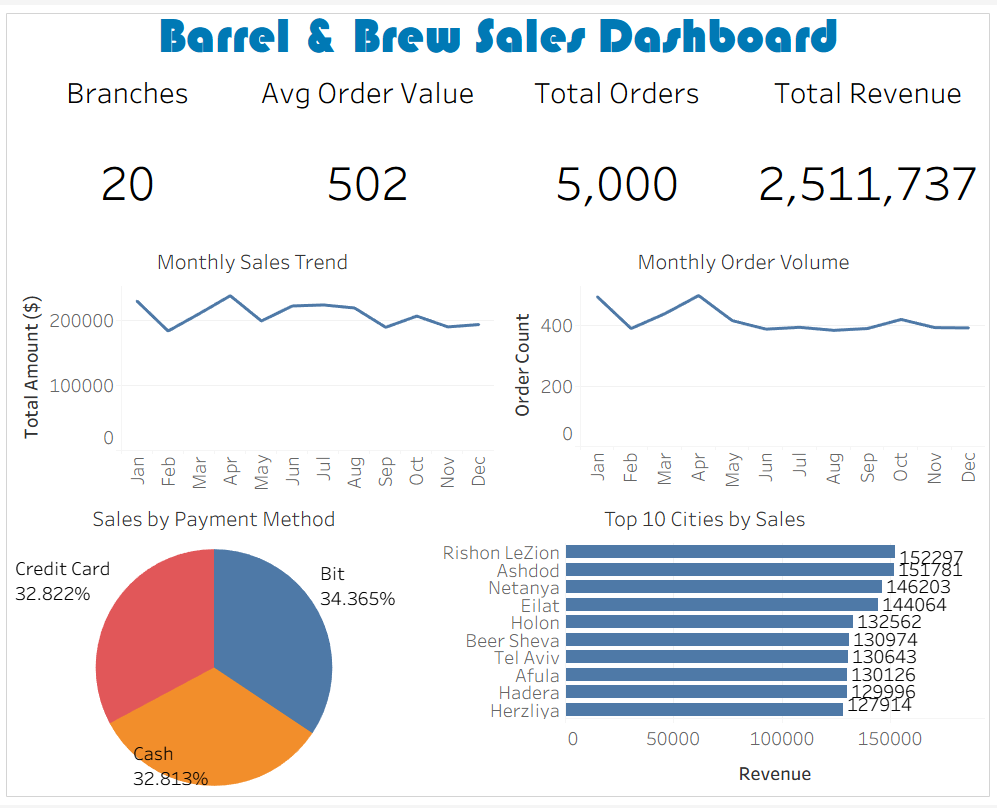

The page's visual inventory and layout, read from the dashboard file:
{"tool":"tableau","page":{"name":"Sales","canvas":[1000,800],"ordinal":1},"visuals":[{"type":"text","box":[9,9,982,45]},{"type":"text","box":[9,54,241.5,64.6]},{"type":"text","box":[250.5,54,238.5,64.6]},{"type":"text","box":[489,54,260.4,64.6]},{"type":"text","box":[749.5,54,241.5,64.6]},{"type":"text","box":[9,118.6,241.5,115.4]},{"type":"text","box":[250.5,118.6,238.5,115.4]},{"type":"text","box":[489,118.6,260.4,115.4]},{"type":"text","box":[749.5,118.6,241.5,115.4]},{"type":"worksheet","title":"Monthly Sales Trend","mark":"Automatic","rows":["TotalAmount"],"cols":["SaleDate"],"box":[9,234,491,256.8]},{"type":"worksheet","title":"Monthly Order Volume","mark":"Automatic","rows":["SaleID"],"cols":["SaleDate"],"box":[500,234,490.9,256.8]},{"type":"worksheet","title":"Sales by Payment Method","mark":"Pie","box":[9,490.8,414,300.2]},{"type":"worksheet","title":"Top 10 Cities by Sales","mark":"Automatic","rows":["CityName"],"cols":["TotalAmount"],"box":[423,490.8,568,300.2]}]}

Visuals, with their boxes in screenshot pixels (x1, y1, x2, y2), scaled from the page's 1000x800 canvas onto the 997x808 screenshot:
text: locate(9, 9, 988, 55)
text: locate(9, 55, 250, 120)
text: locate(250, 55, 488, 120)
text: locate(488, 55, 747, 120)
text: locate(747, 55, 988, 120)
text: locate(9, 120, 250, 236)
text: locate(250, 120, 488, 236)
text: locate(488, 120, 747, 236)
text: locate(747, 120, 988, 236)
"Monthly Sales Trend" worksheet: locate(9, 236, 498, 496)
"Monthly Order Volume" worksheet: locate(498, 236, 988, 496)
"Sales by Payment Method" worksheet (Pie marks): locate(9, 496, 422, 799)
"Top 10 Cities by Sales" worksheet: locate(422, 496, 988, 799)
